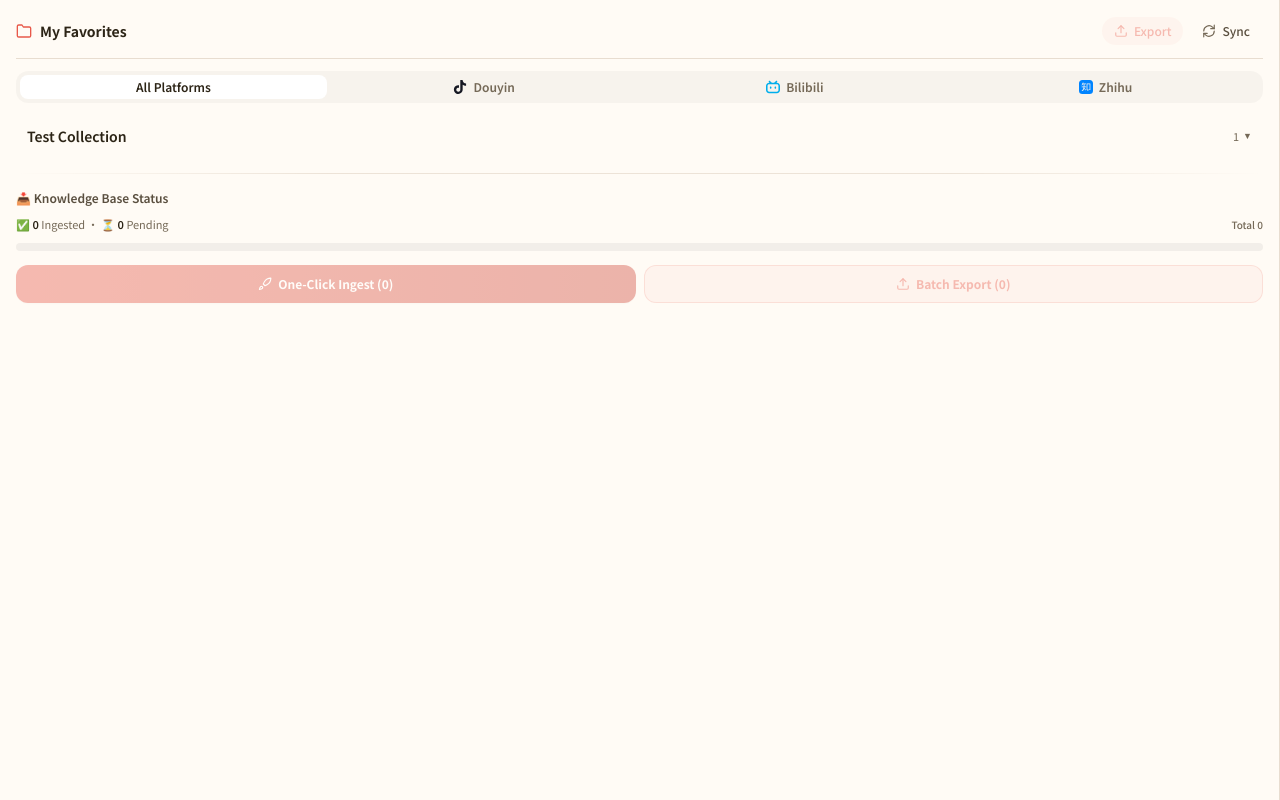
it: SourcesPanel expanded video list & search › shows "no content yet" when a collection genuinely has no videos
The width and height of the screenshot is (1280, 800).
Click the text "Test Collection" at [77, 136], box [27,126,127,146]
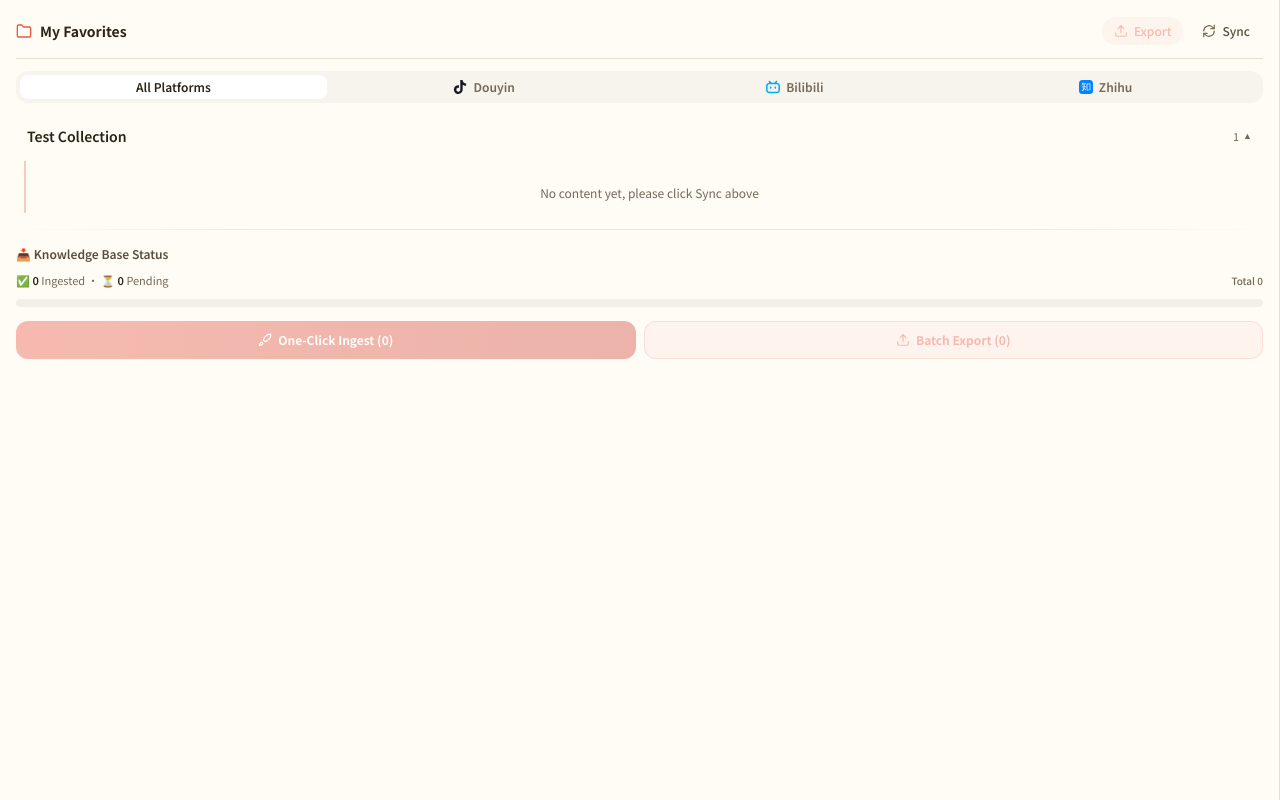
Now the text "No content yet, please click Sync above" is shown, box [540,184,759,201]
